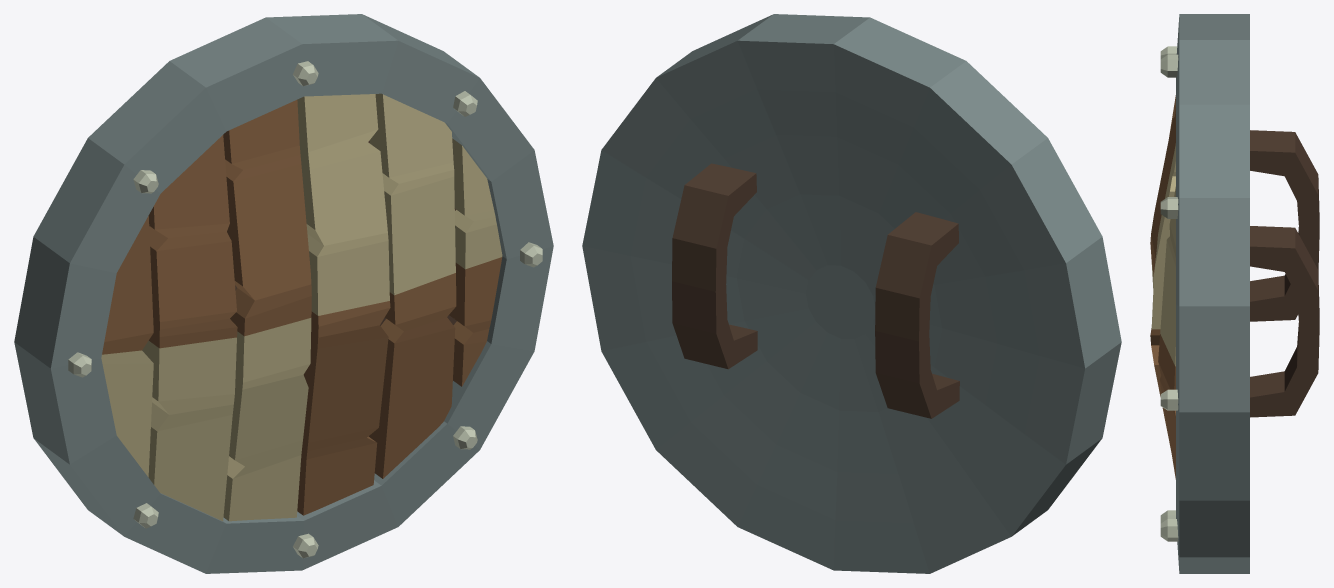
Rendered from shield-reinforced-round.glb.
3 views of the same model, side by side, from view 1: azimuth 30°, elevation 25°; view 2: azimuth 150°, elevation 25°; view 3: azimuth 270°, elevation 25° (orthographic). The views are drawn at different scales.
Parts seen in each view (by area): view 1: shield-reinforced-round runtime mesh; view 2: shield-reinforced-round runtime mesh; view 3: shield-reinforced-round runtime mesh.
Boxes of the visible parts, x1=… form: shield-reinforced-round runtime mesh: x1=14, y1=14, x2=553, y2=573; shield-reinforced-round runtime mesh: x1=582, y1=14, x2=1121, y2=573; shield-reinforced-round runtime mesh: x1=1150, y1=14, x2=1319, y2=573.
Bounding box in the file's own units: 0.76 × 0.76 × 0.2294.
